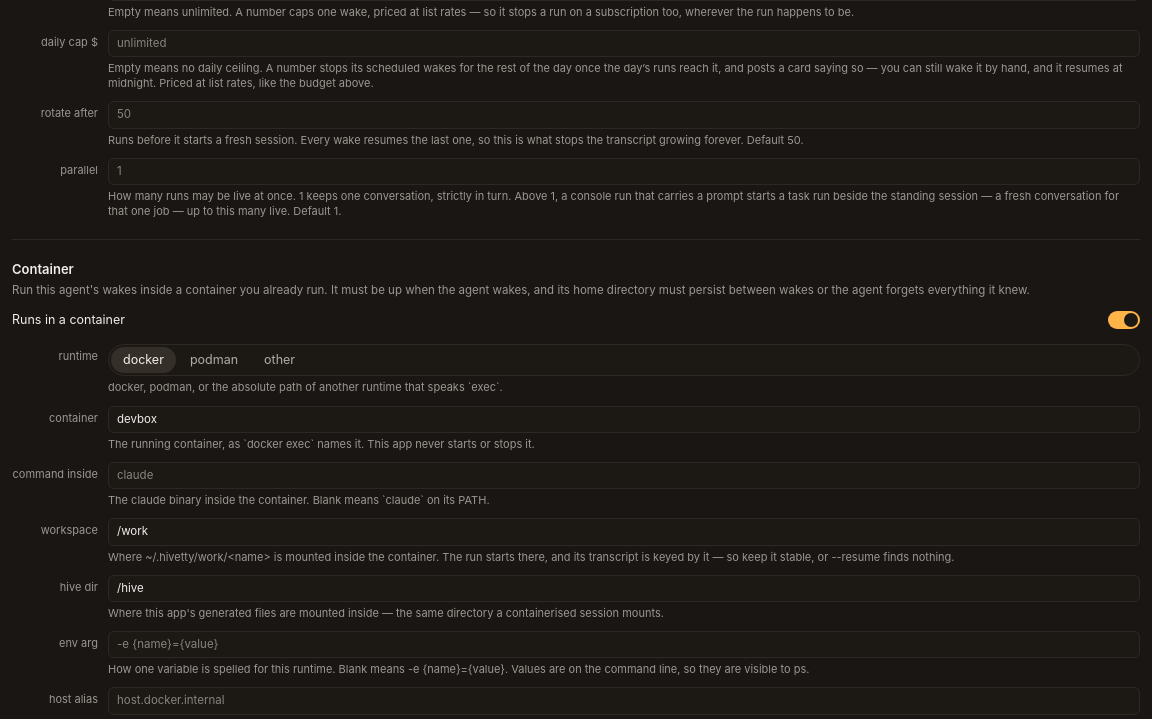
Test: AgentForm › Runs in a container (HIVE-137) › offers docker, podman and a path for the runtime
(page scrolled)
Click the radio button labelled "podman".
click(214, 360)  # box x1=178 y1=347 x2=250 y2=374
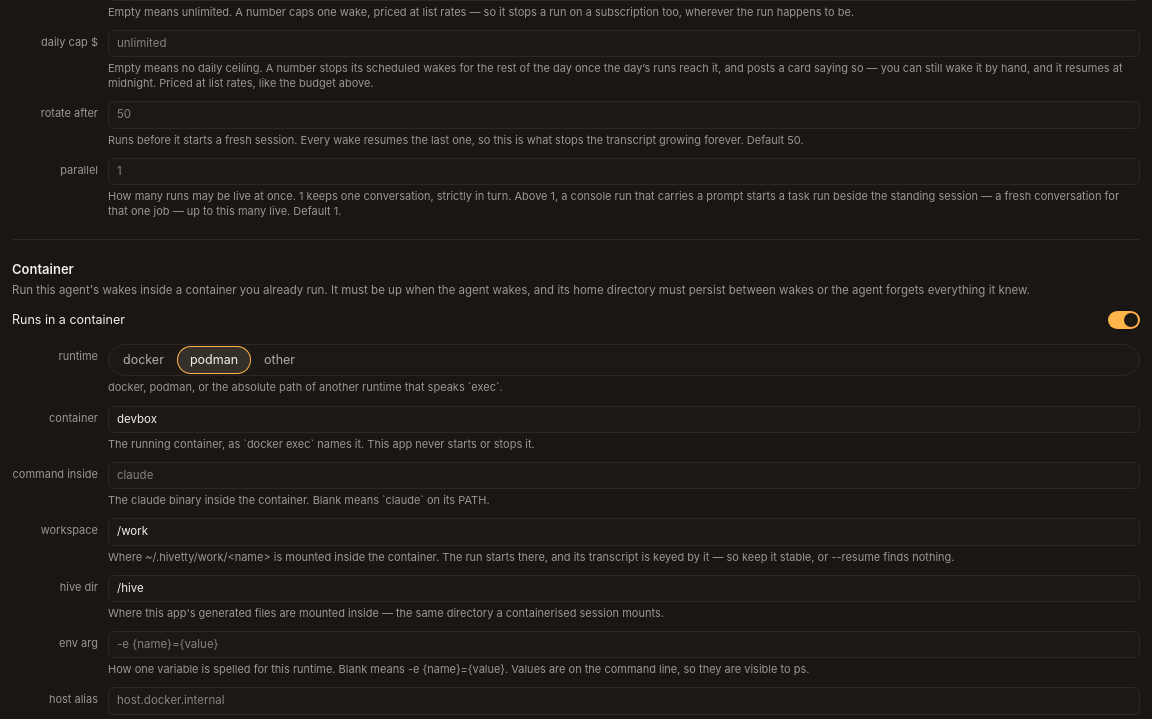
Click the radio button labelled "other".
click(280, 360)  # box x1=252 y1=347 x2=307 y2=374
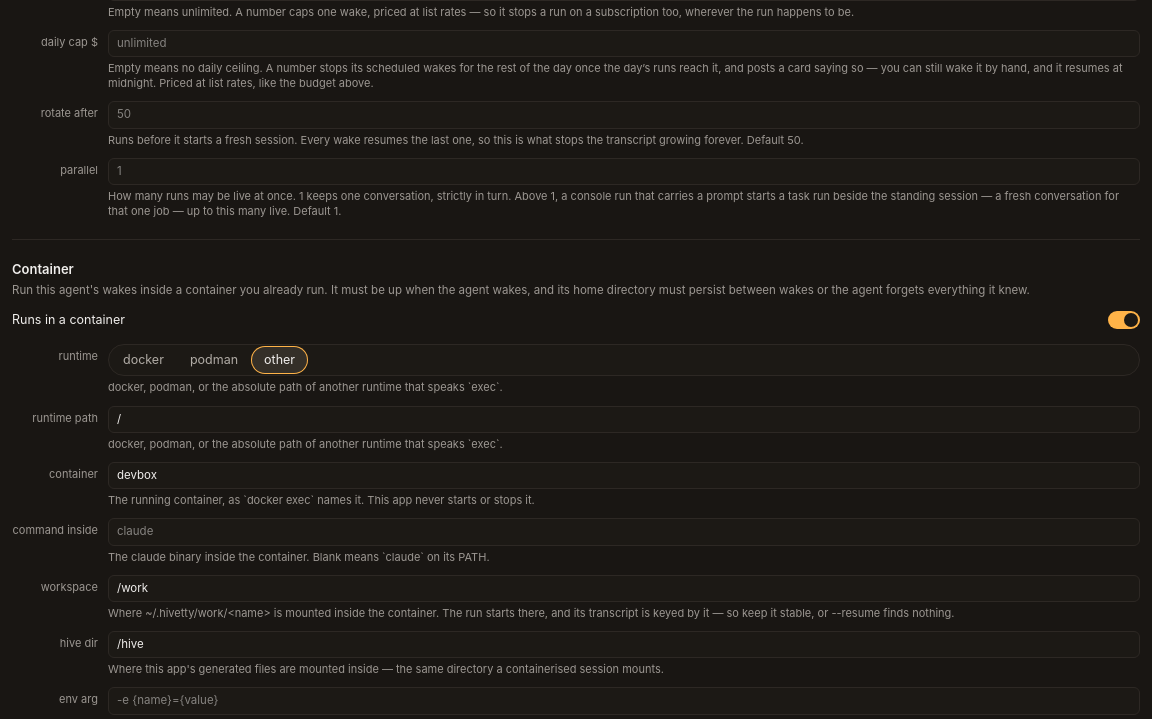
Now the field named "runtime path" is shown, box x1=108 y1=406 x2=1140 y2=433
